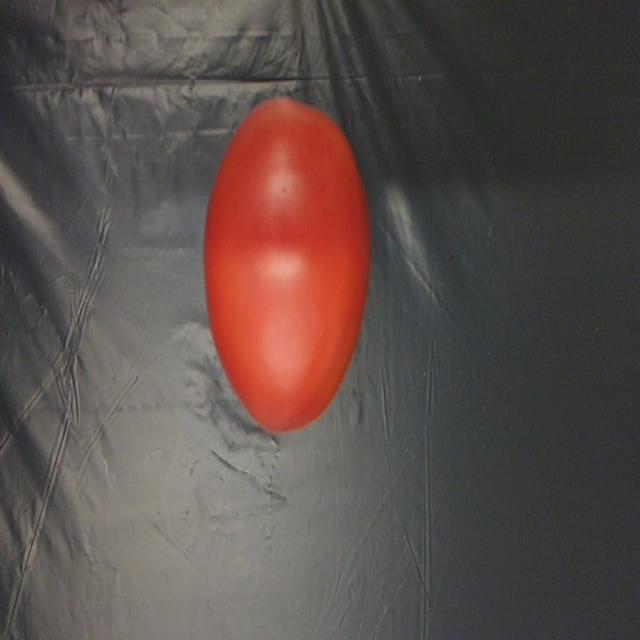kirmizi: (204, 95, 374, 450)
